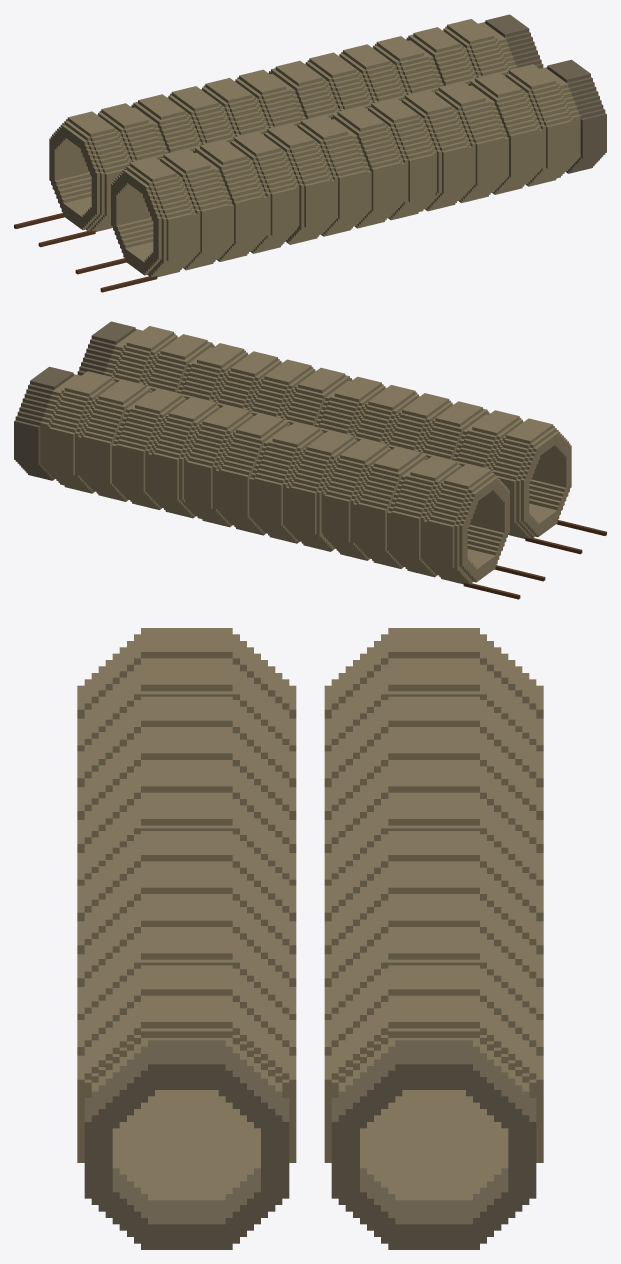
Rendered from gambeson_sleeve.glb.
3 renders of one model, top to bottom at view 1: azimuth 30°, elevation 25°; view 2: azimuth 150°, elevation 25°; view 3: azimuth 270°, elevation 25°, orthographic. The views are drawn at different scales.
Visible parts, largest first — view 1: gambeson_sleeve:compound; view 2: gambeson_sleeve:compound; view 3: gambeson_sleeve:compound.
Part boxes in pixels (x1=…): gambeson_sleeve:compound: x1=14, y1=14, x2=606, y2=292; gambeson_sleeve:compound: x1=14, y1=321, x2=606, y2=599; gambeson_sleeve:compound: x1=77, y1=628, x2=543, y2=1249.
Bounding box in the file's own units: 0.644 × 0.124 × 0.264.
